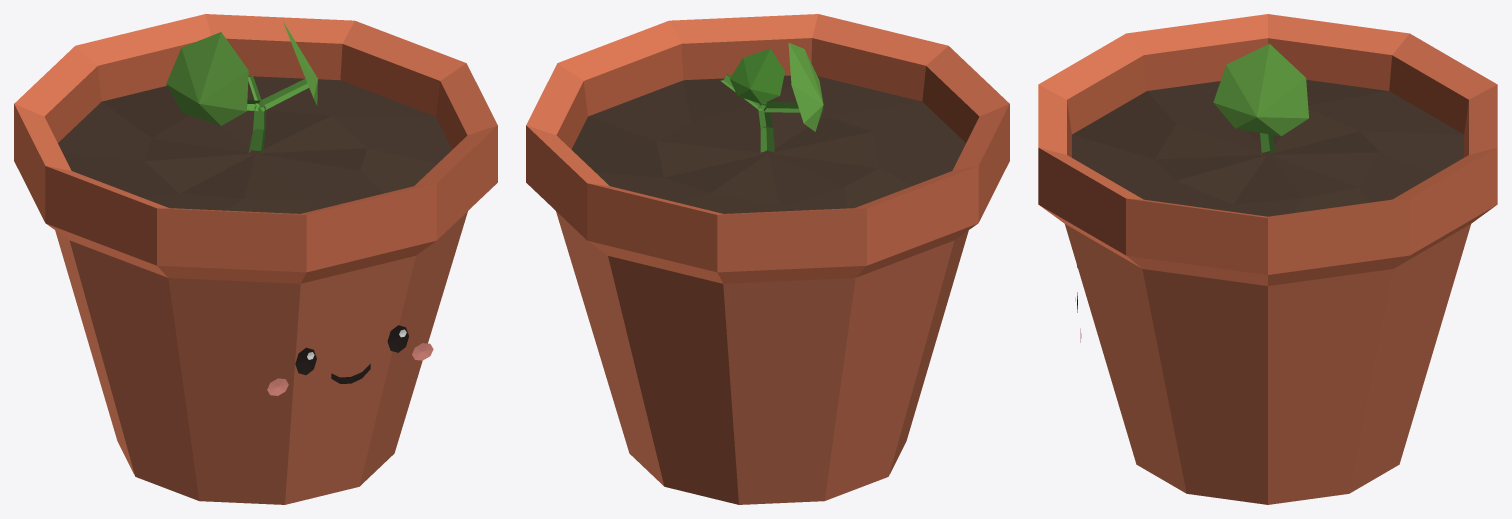
The model's file is pumpkin_1.glb.
3 renders of one model, left to right at view 1: azimuth 30°, elevation 25°; view 2: azimuth 150°, elevation 25°; view 3: azimuth 270°, elevation 25°, orthographic.
Visible parts, largest first — view 1: Pumpkin_Stage1_Sprout; view 2: Pumpkin_Stage1_Sprout; view 3: Pumpkin_Stage1_Sprout.
Boxes of the visible parts, left/top/right/bottom form: Pumpkin_Stage1_Sprout: left=14, top=14, right=497, bottom=504; Pumpkin_Stage1_Sprout: left=526, top=14, right=1009, bottom=504; Pumpkin_Stage1_Sprout: left=1038, top=14, right=1497, bottom=504.
Size of the model in its own units: 1.92 by 1.83 by 1.83.
